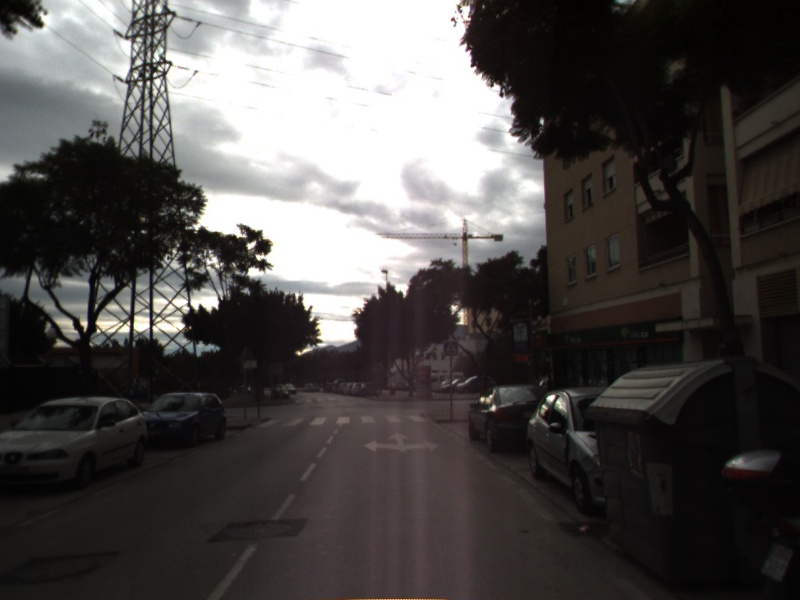STRAIGHT_LEFT_RIGHT: (361, 430, 442, 454)
